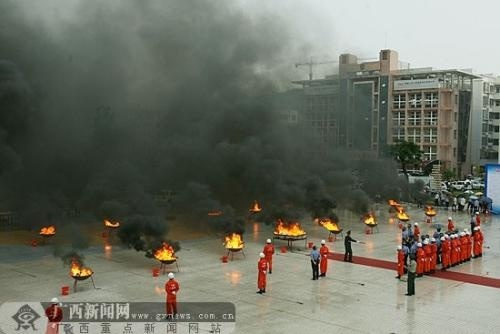fire: (274, 220, 305, 237), (153, 242, 177, 260), (389, 200, 409, 221), (222, 231, 244, 250), (69, 259, 93, 276), (316, 216, 340, 231), (362, 212, 377, 226), (39, 224, 56, 236), (104, 218, 120, 228), (426, 205, 436, 216)
